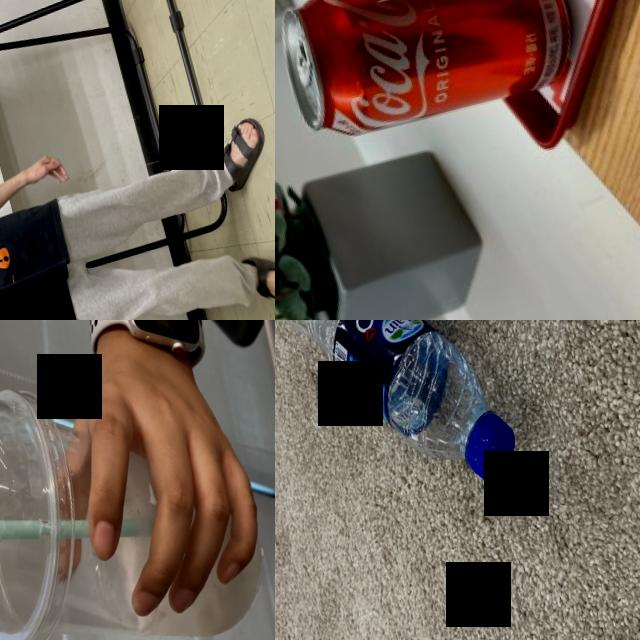bottle: (275, 320, 533, 528)
can: (275, 0, 601, 150)
cup: (0, 334, 275, 640)
